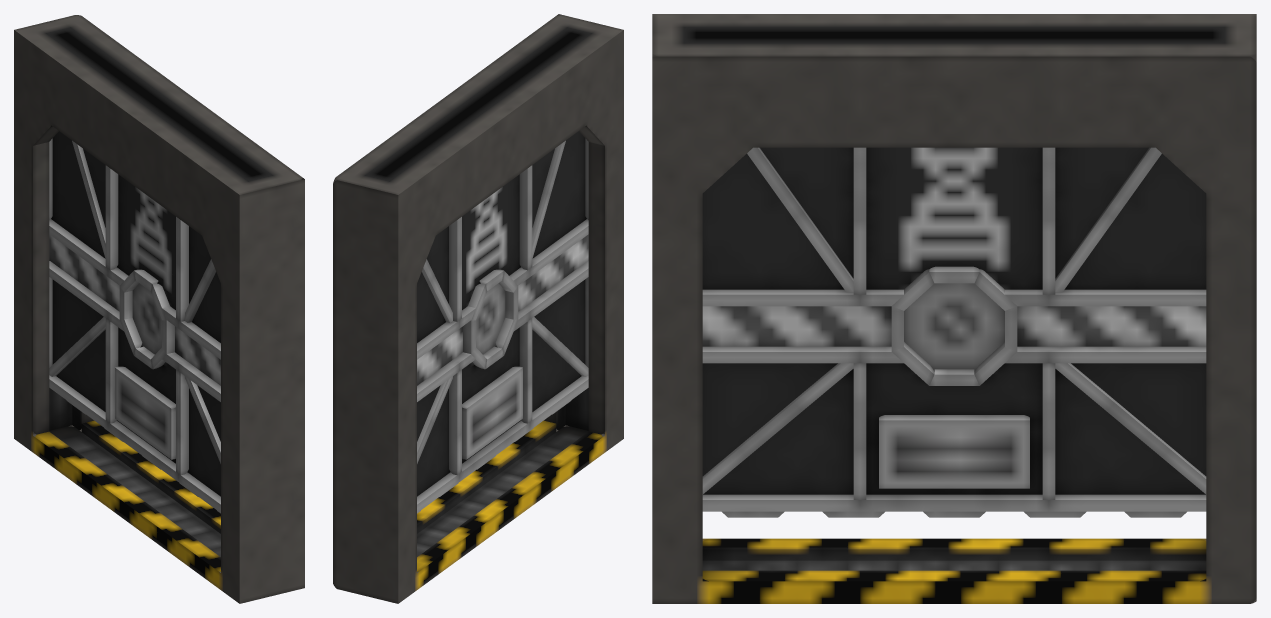
The model's file is qe_containment_23.obj.
3 views of the same model, side by side, from view 1: azimuth 30°, elevation 25°; view 2: azimuth 150°, elevation 25°; view 3: azimuth 270°, elevation 25° (orthographic). The views are drawn at different scales.
Visible parts, largest first — view 1: Frame, Door; view 2: Frame, Door; view 3: Door, Frame.
Boxes of the visible parts, <box> form: Frame: <box>14,15,304,603</box>; Door: <box>49,131,220,513</box>; Frame: <box>333,14,623,603</box>; Door: <box>417,131,588,513</box>; Door: <box>702,147,1206,517</box>; Frame: <box>652,14,1256,603</box>.
Size of the model in its own units: 0.5 by 3 by 3.
